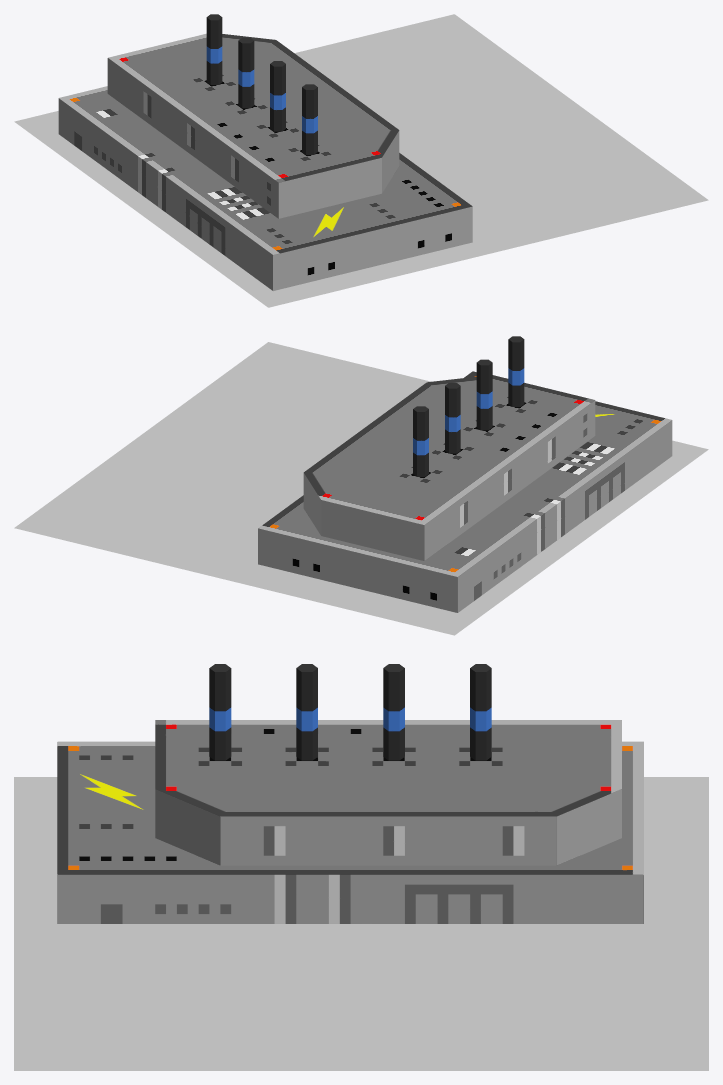
File: coal.dae
3 renders of one model, top to bottom at view 1: azimuth 30°, elevation 25°; view 2: azimuth 150°, elevation 25°; view 3: azimuth 270°, elevation 25°, orthographic. The views are drawn at different scales.
Visible parts, largest first — view 1: power_plant; view 2: power_plant; view 3: power_plant.
Boxes of the visible parts, <box> form: power_plant: <box>14,14,708,307</box>; power_plant: <box>14,336,708,635</box>; power_plant: <box>14,664,708,1070</box>.
Size of the model in its own units: 64 by 64 by 19.
4 materials, 3 textured.
